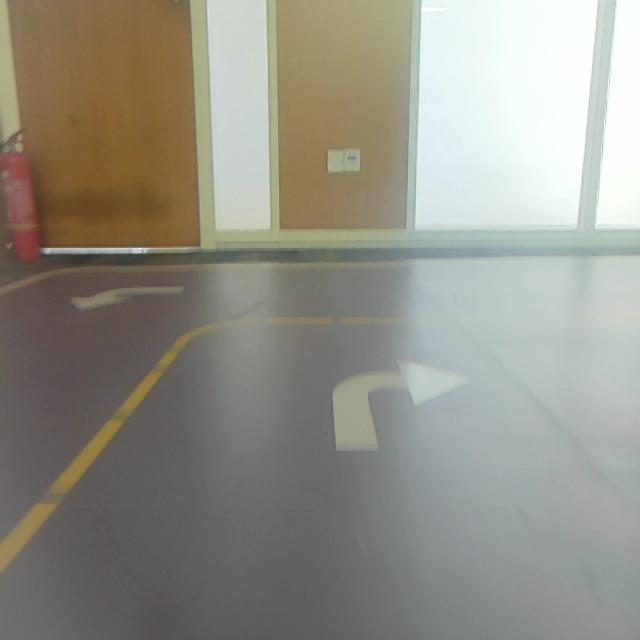left_lane: (0, 336, 183, 576)
